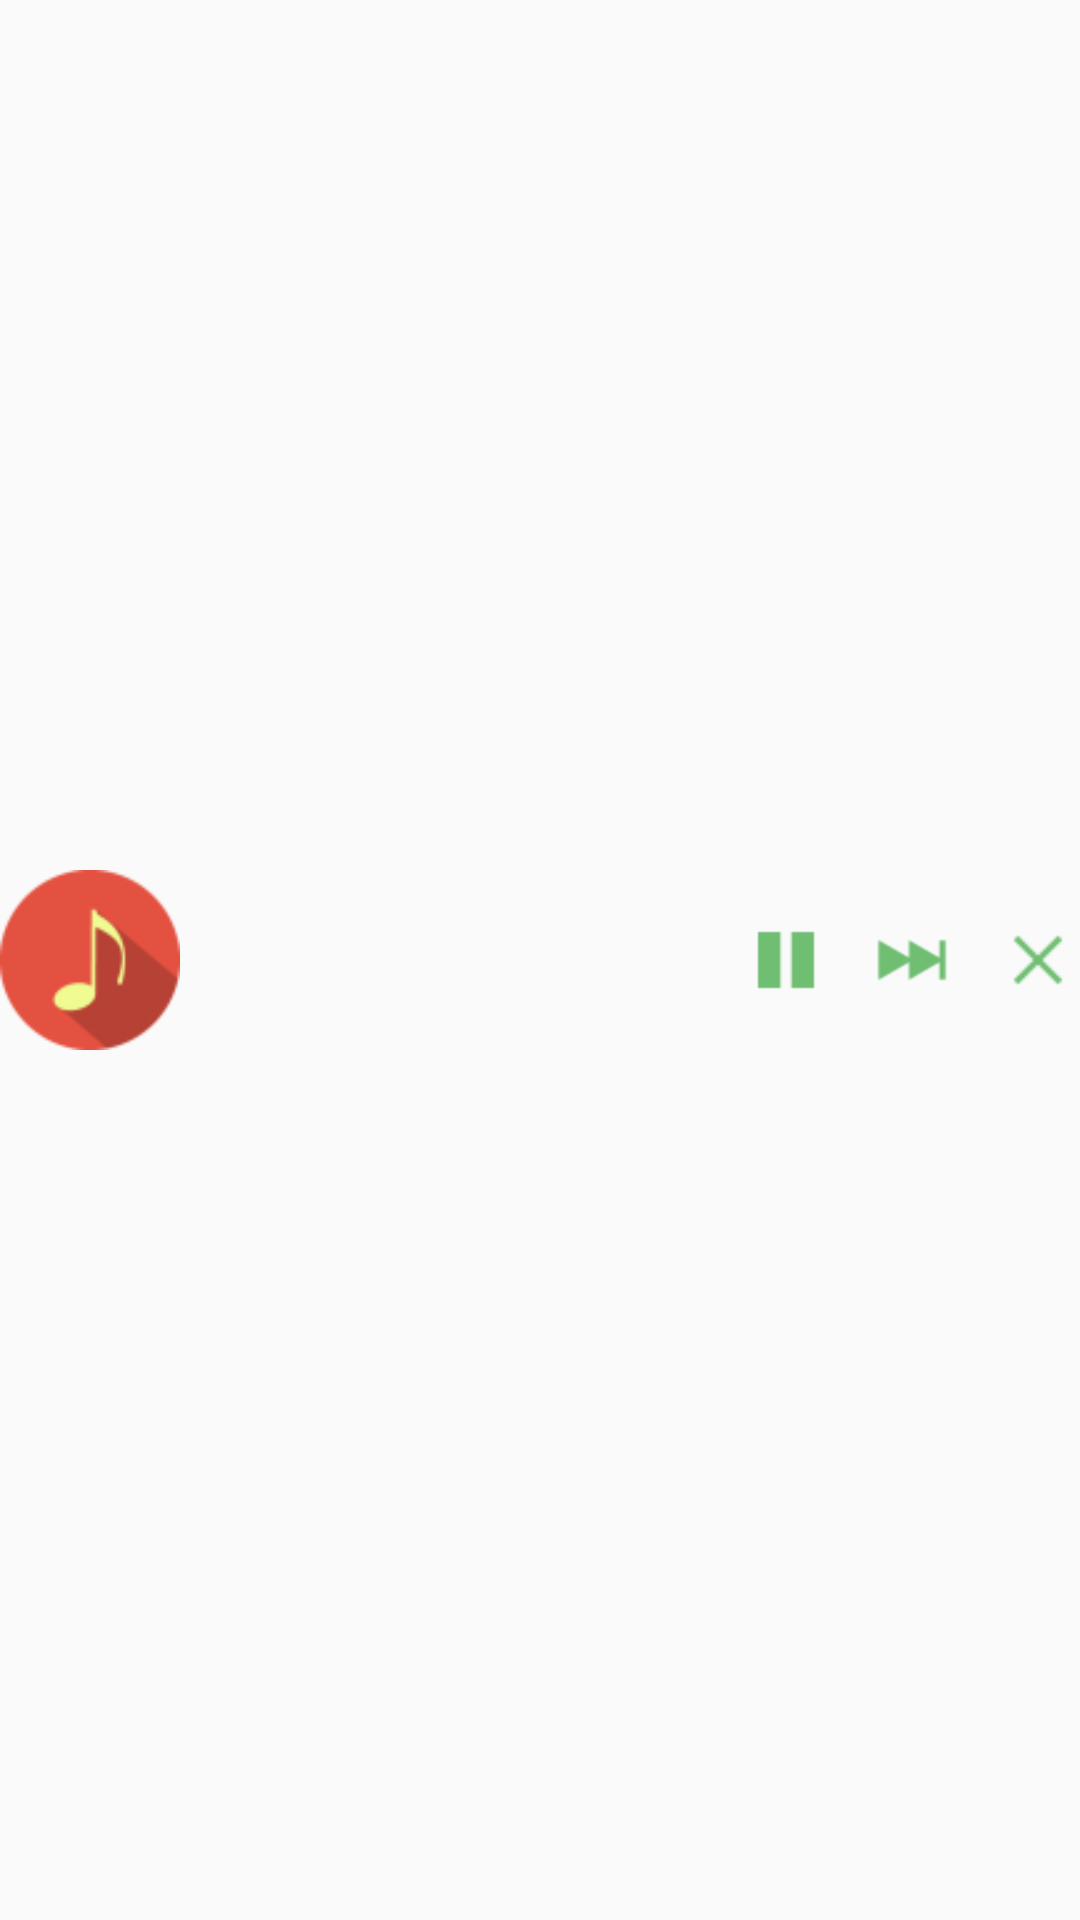

Where to tap for icons on this 1080px×1920px app screen, as (x=x, y=y):
next: (x=912, y=960)
pause: (x=786, y=960)
remove: (x=1038, y=960)
